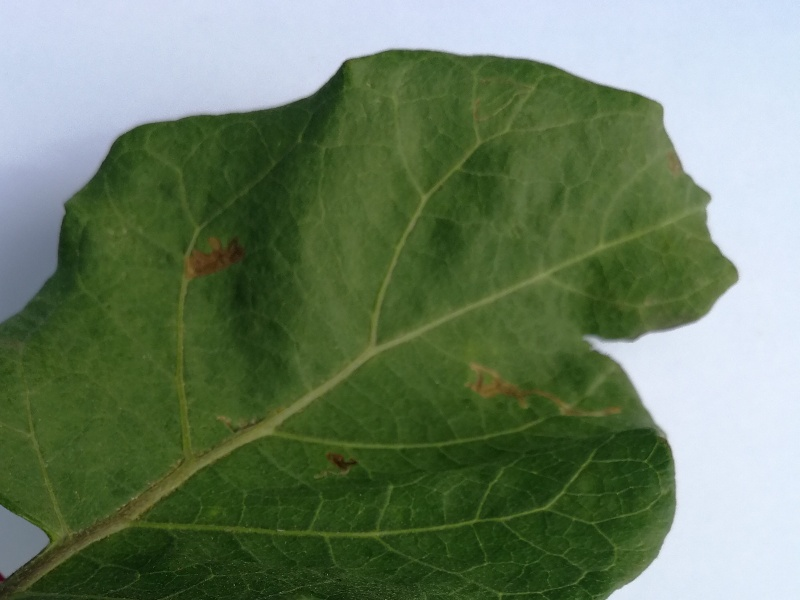leafminer: (447, 357, 634, 435), (177, 230, 256, 285)
